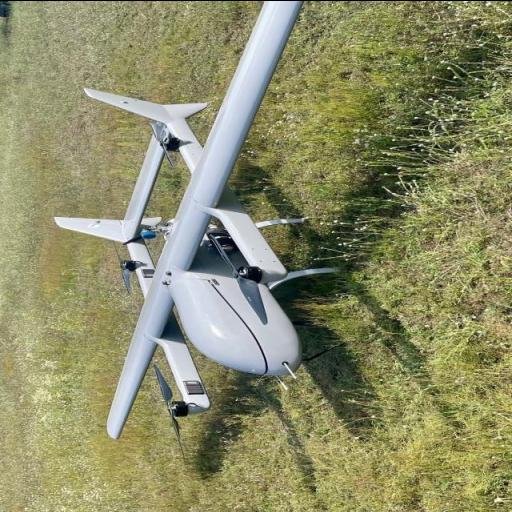uav: (52, 0, 344, 443)
